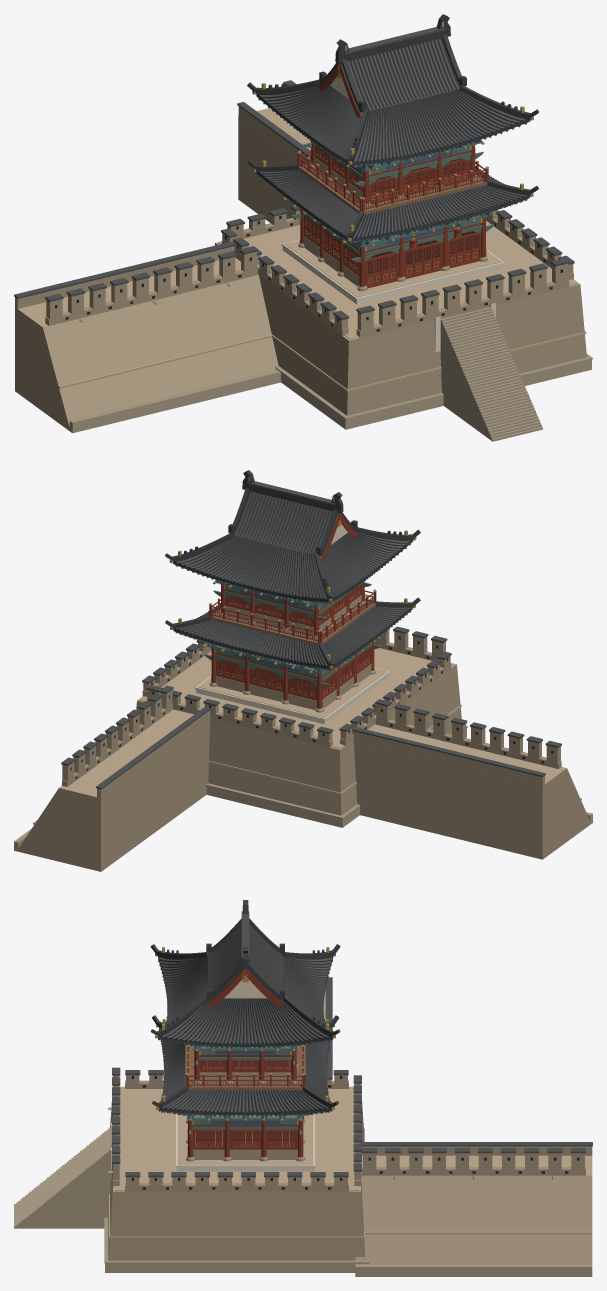
3 renders of one model, top to bottom at view 1: azimuth 30°, elevation 25°; view 2: azimuth 150°, elevation 25°; view 3: azimuth 270°, elevation 25°, orthographic. The views are drawn at different scales.
Visible parts, largest first — view 1: X04; view 2: X04; view 3: X04.
Boxes of the visible parts, x1,y1,x2,y2 form: X04: [14, 14, 592, 441]; X04: [14, 470, 592, 871]; X04: [14, 900, 592, 1276].
Size of the model in its own units: 46.15 by 30.1 by 53.75.
